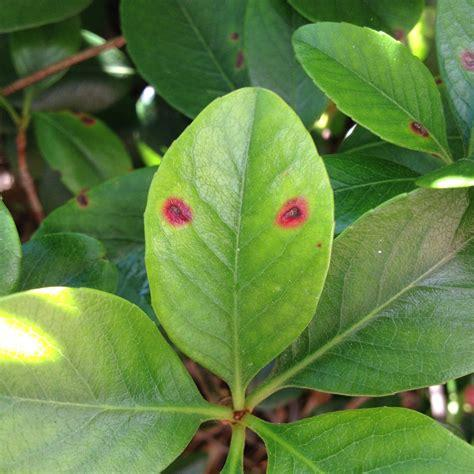black-spot: (270, 184, 312, 239), (157, 186, 196, 235)
